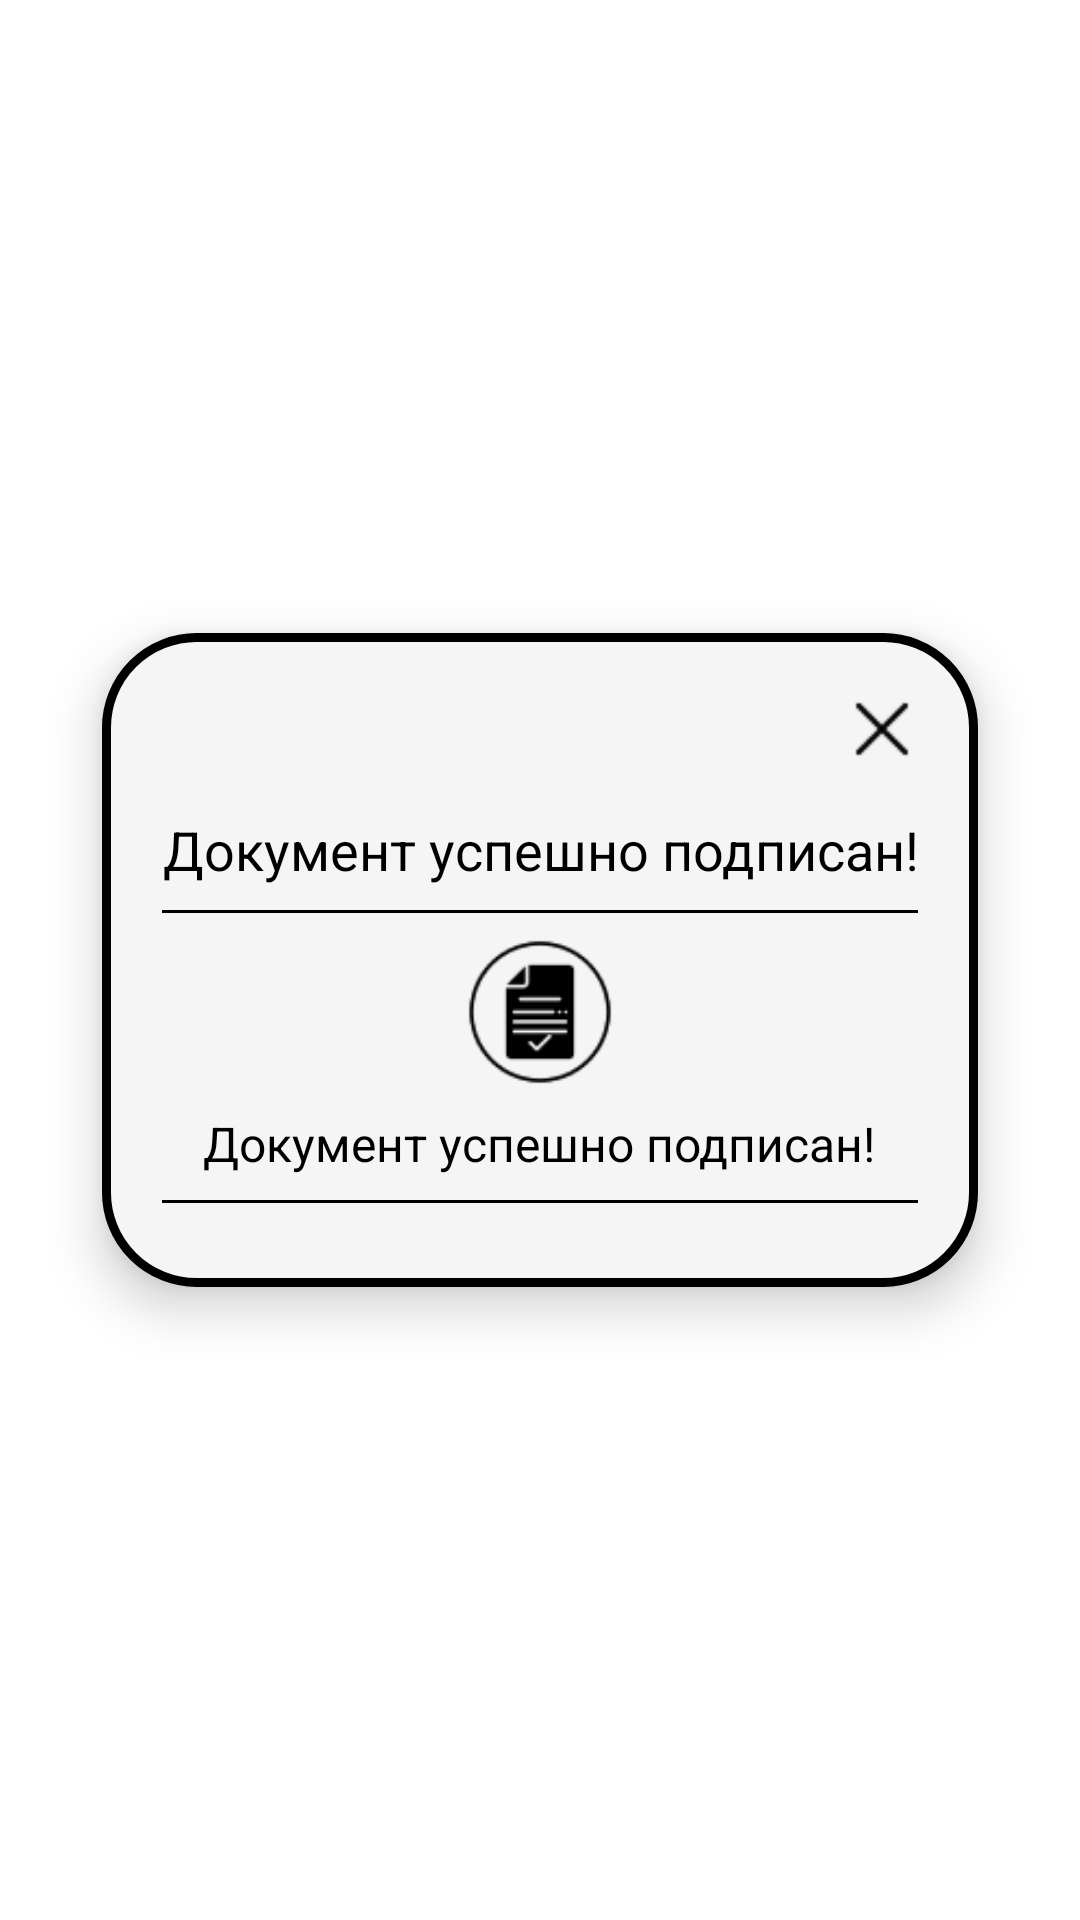

Icons on this 1080w x 1920h Android screen, each with its box as (x1, y1, x2, y2):
Закрыть: (855, 702, 909, 756)
Иконка подписанного документа: (469, 941, 611, 1083)
